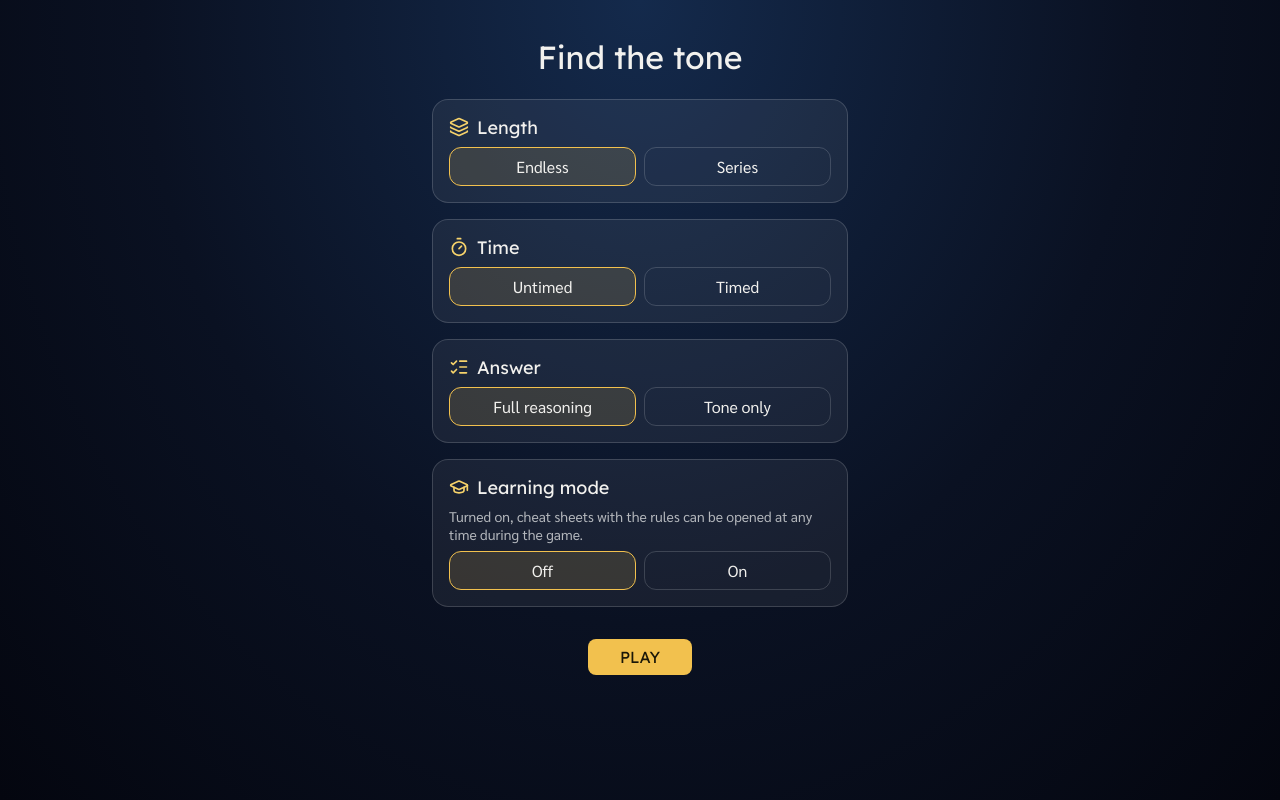
it: SetupPage › refuses a number of questions out of range
Click the radio button labelled "Series".
click(738, 166)  # box [644,147,831,186]
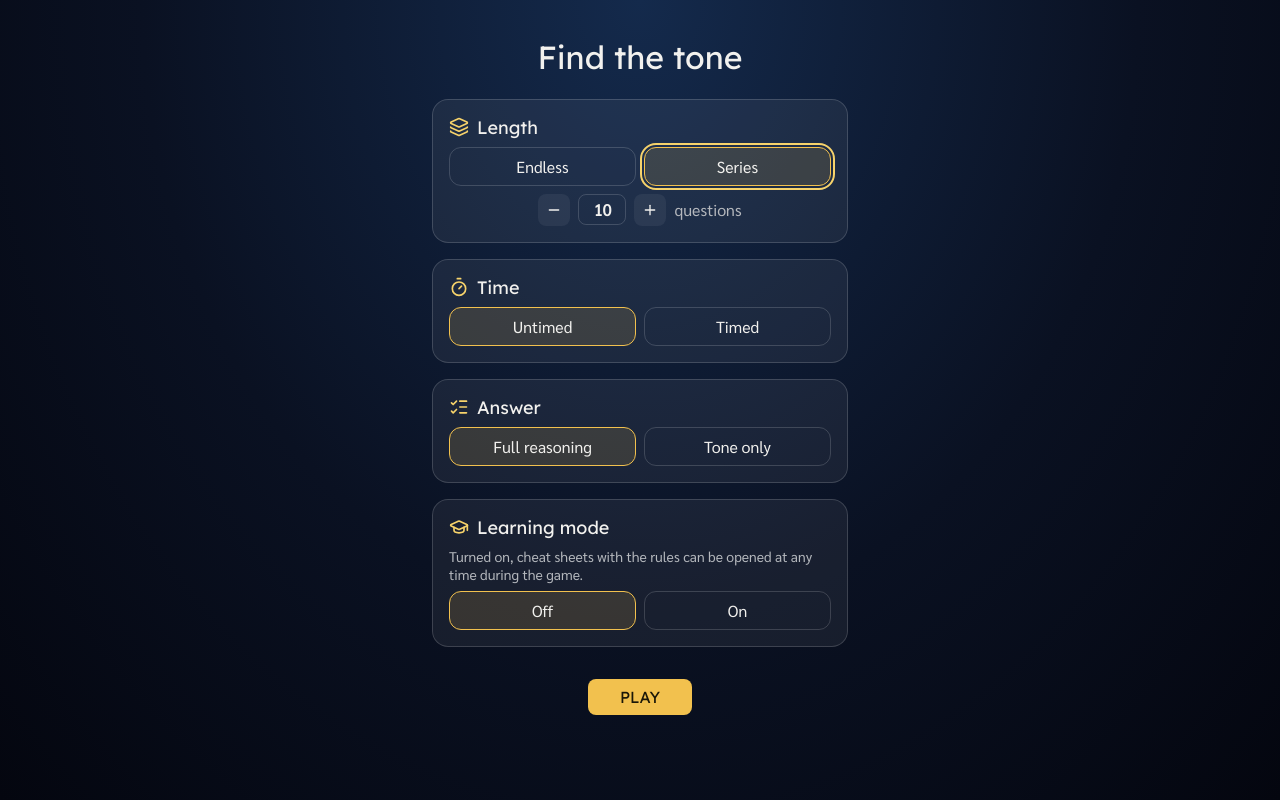
Replace the text in the number field named "Number of questions" with "4" at (602, 210), box [578,194,626,225]
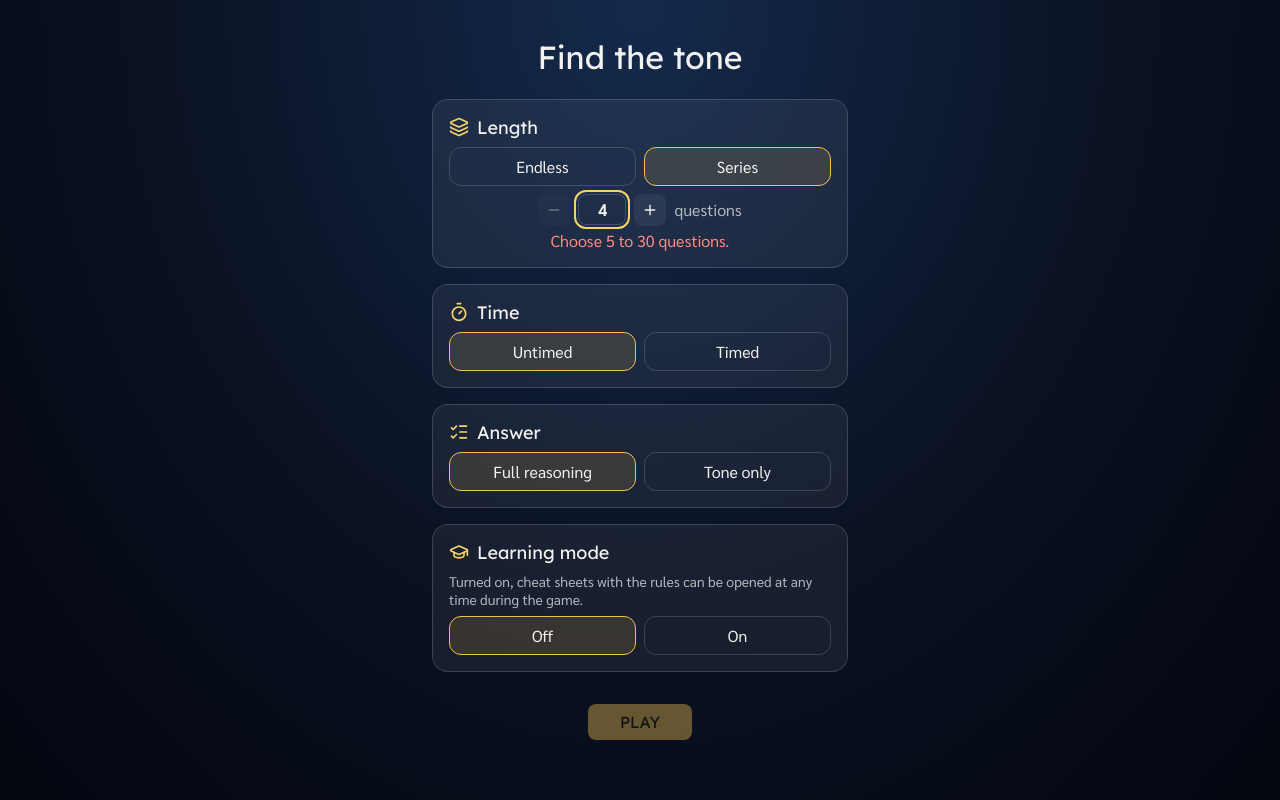
Check: the button "Play" is disabled, box [588,704,692,740]
Check: the text "Choose 5 to 30 questions." is shown, box [551,230,729,251]
Replace the text in the number field named "Number of questions" with "30" at (602, 210), box [578,194,626,225]
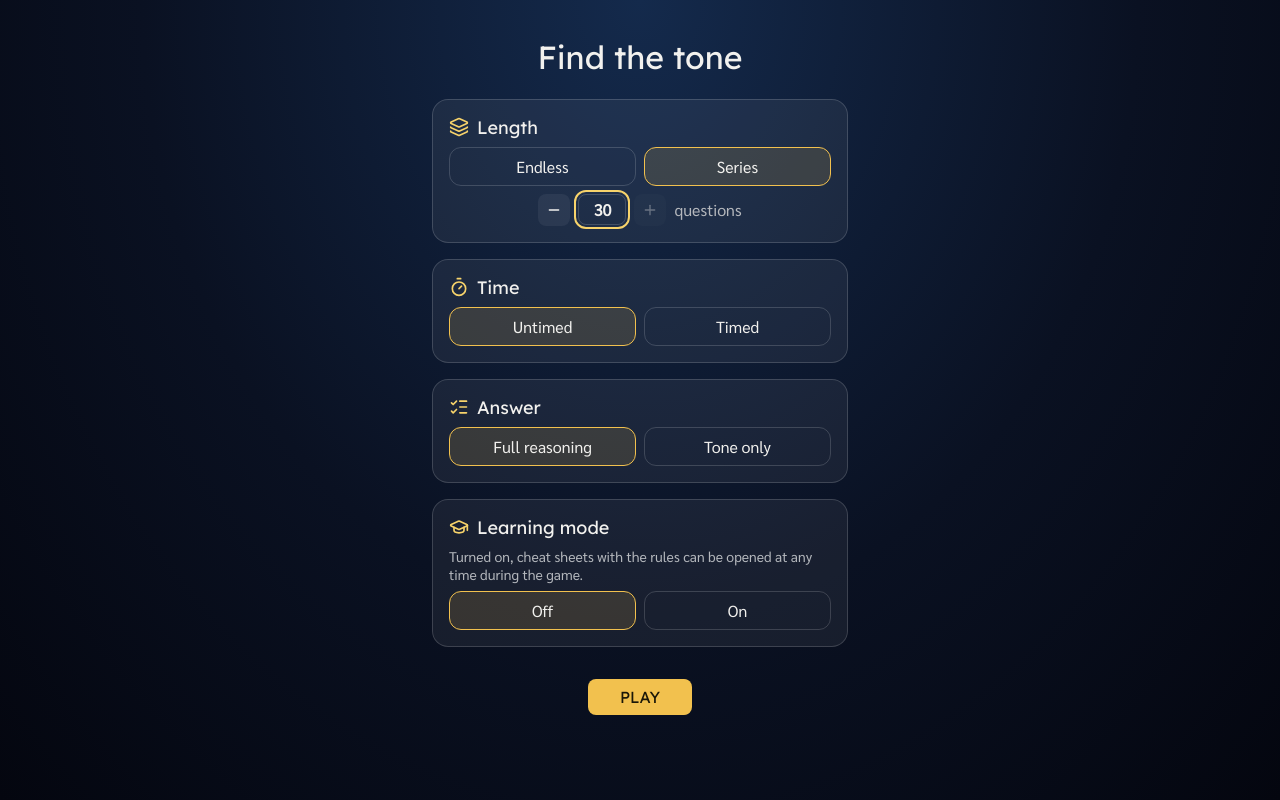
Check: the button "Play" is enabled, box [588,679,692,715]
